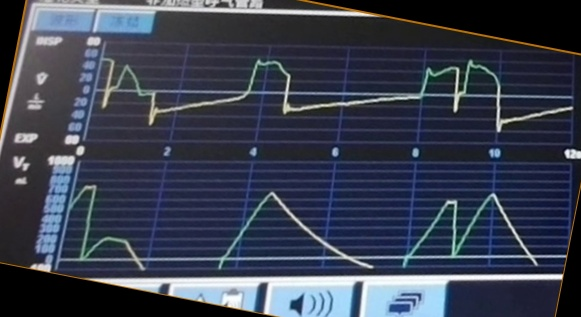Double_Triggering Flow: (97, 49, 545, 145)
Double_Triggering Volume: (70, 178, 544, 273)
